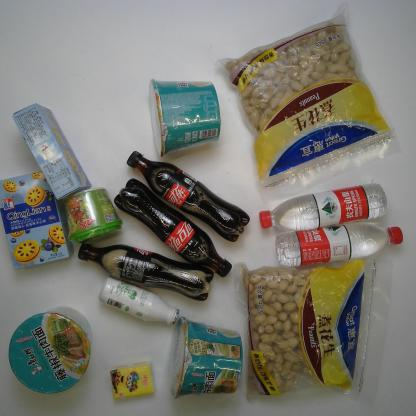Dessert: (10, 102, 92, 202), (0, 170, 75, 272)
Dried Food: (213, 0, 398, 204), (232, 256, 374, 406)
Drink: (112, 177, 234, 277), (126, 151, 251, 241), (76, 239, 215, 302), (259, 182, 389, 232), (274, 221, 404, 269)
Instant Drink: (63, 186, 124, 244)
Instant Noodles: (5, 310, 93, 394), (166, 317, 244, 401), (148, 78, 224, 160)
Milk: (98, 275, 180, 327)
Tissue: (110, 359, 155, 400)
